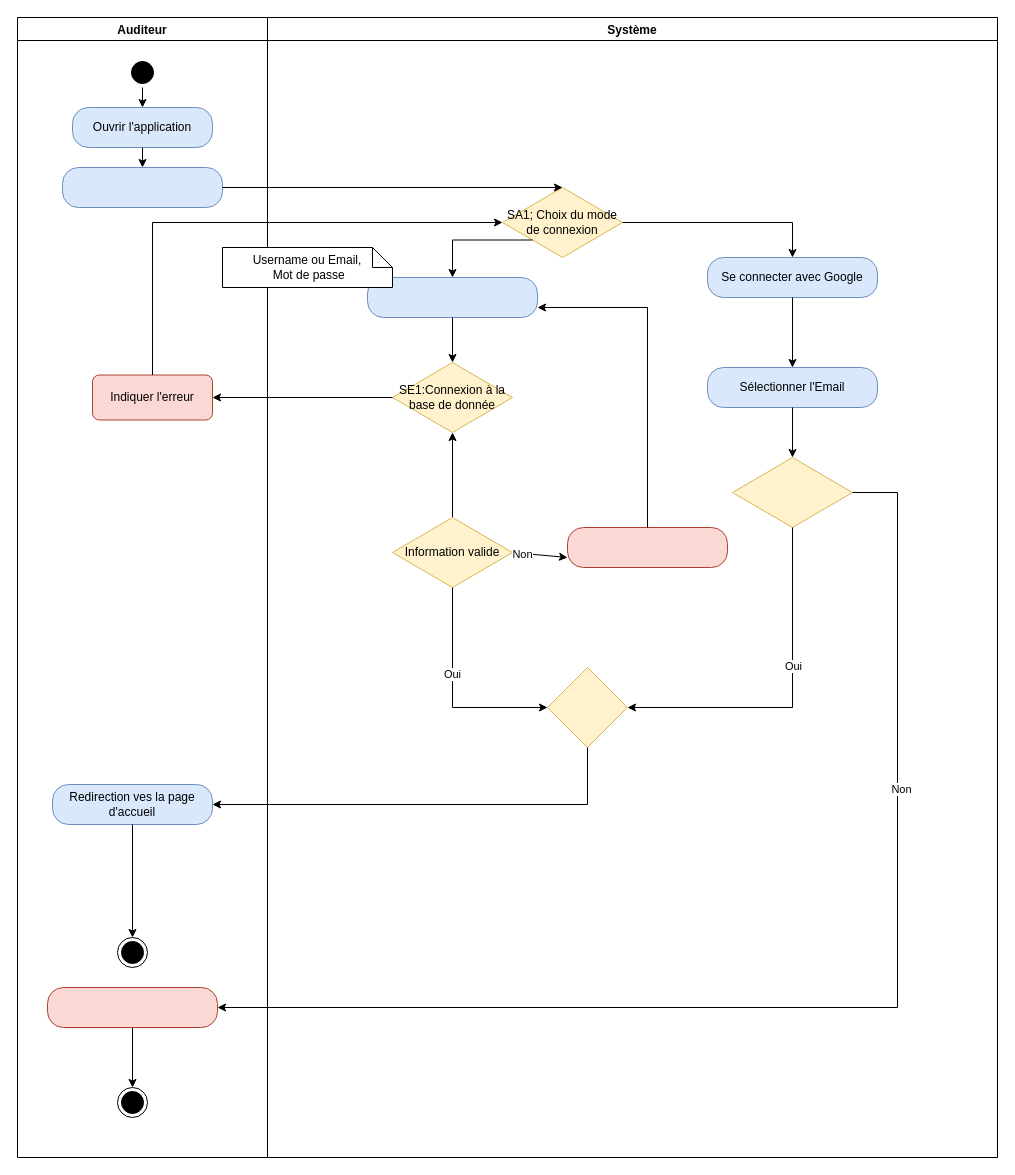
This 1015x1175 diagram has some shape labels left out. Each missing label, with the centre of its shape:
Cliquer sur "Se connecter": the point at 142,187
Compte existant ?: the point at 792,492
Demande de nouvelle saisie: the point at 647,547
Entrer les identifiants: the point at 452,297
Redirection vers lapage d'Inscription: the point at 132,1007
